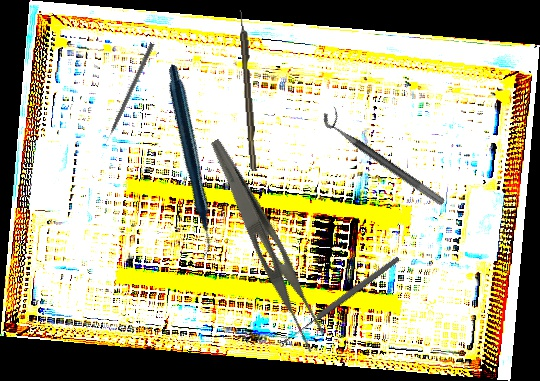Dressing Forceps: (187, 137, 339, 355)
Fixation Ring: (318, 104, 453, 207)
Handpiece: (102, 63, 274, 260)
Hook Surgical: (238, 9, 258, 172)
Pusher: (101, 42, 155, 148)
Surgical Spoon: (281, 255, 401, 345)
